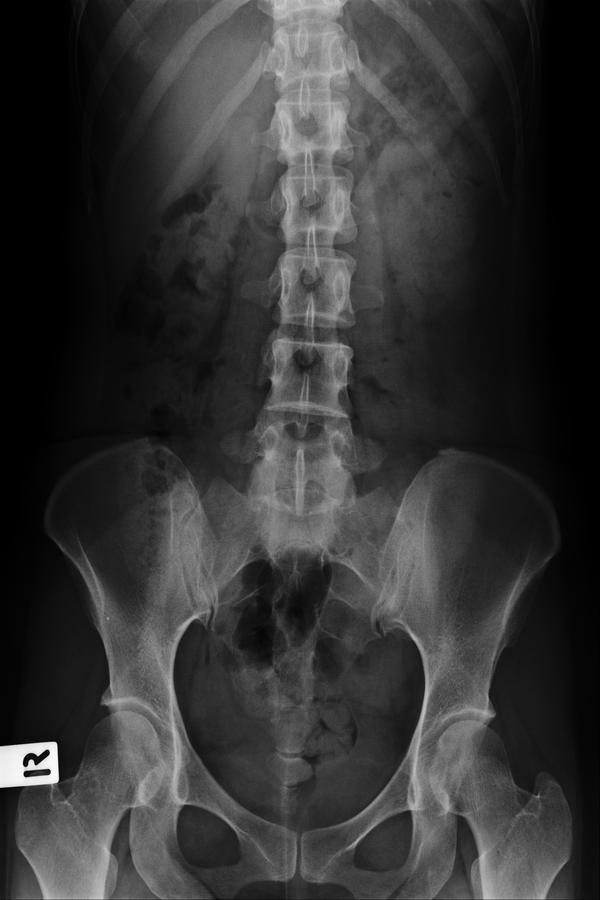lumbar scoliosis: (252, 5, 366, 551)
